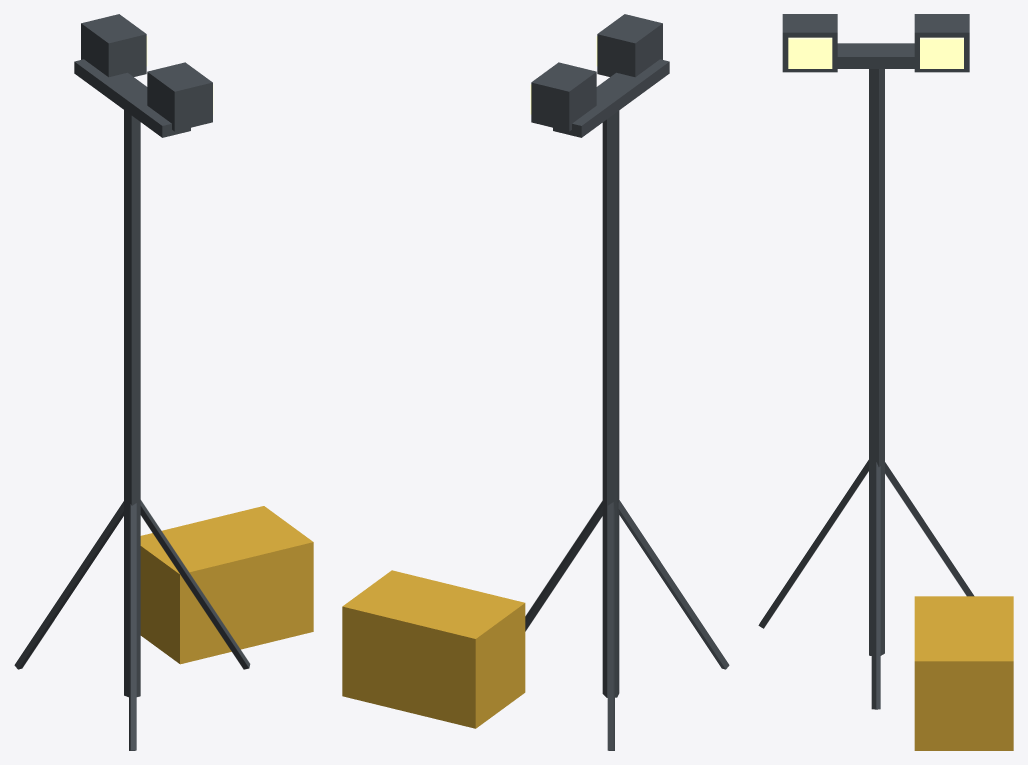
File: stralkastare.glb
The picture shows the model from 3 angles, left to right: view 1: azimuth 30°, elevation 25°; view 2: azimuth 150°, elevation 25°; view 3: azimuth 270°, elevation 25°; orthographic projection.
Visible parts, largest first — view 1: stralkastare; view 2: stralkastare; view 3: stralkastare.
Part boxes in pixels (x1,y1,x2,y2): stralkastare: (14, 14, 313, 750); stralkastare: (342, 14, 729, 750); stralkastare: (758, 14, 1013, 750).
Bounding box in the file's own units: 2.73 × 6.42 × 2.32.
